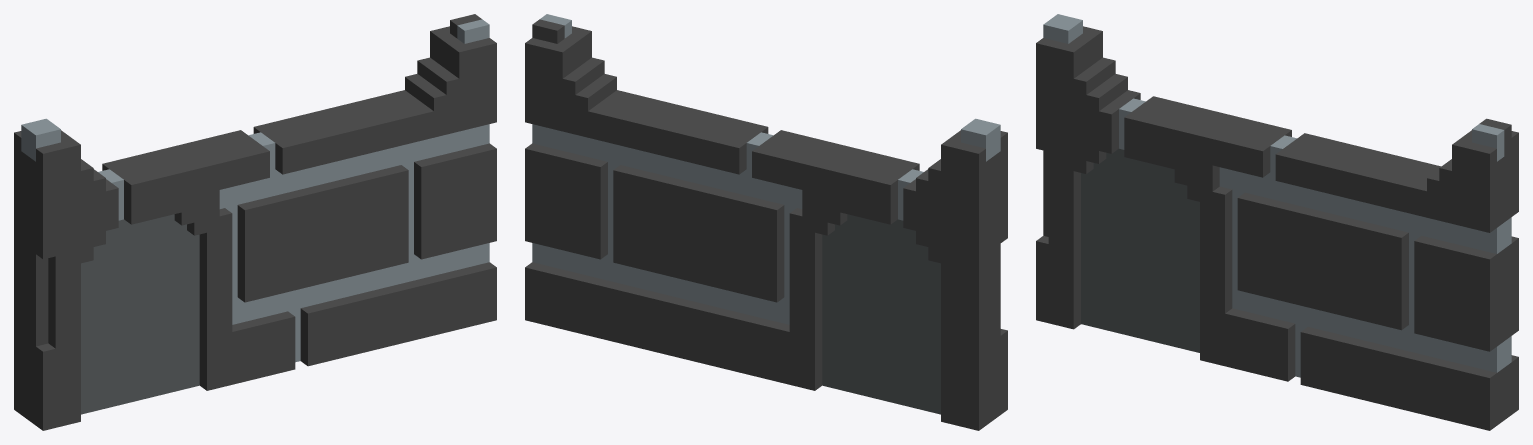
Rendered from wallint.obj.
3 views of the same model, side by side, from view 1: azimuth 30°, elevation 25°; view 2: azimuth 150°, elevation 25°; view 3: azimuth 330°, elevation 25° (orthographic).
Size of the model in its own units: 3.6 by 2.2 by 0.4.
Materials: 1 (1 with a texture image).
